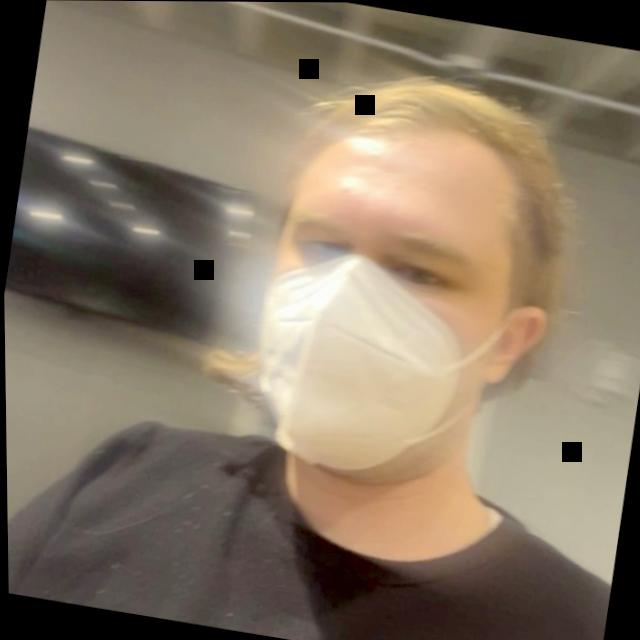Mask: (186, 33, 624, 590)
